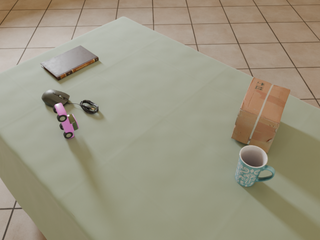book: (40, 45, 99, 80)
box: (231, 77, 290, 153)
cup: (235, 145, 275, 187)
mouse: (42, 90, 70, 107)
toy_car: (53, 103, 79, 138)
